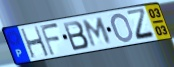B: (61, 19, 90, 52)
F: (38, 22, 63, 57)
H: (19, 25, 51, 60)
M: (82, 17, 113, 49)
O: (110, 12, 135, 43)
Z: (125, 7, 158, 42)
